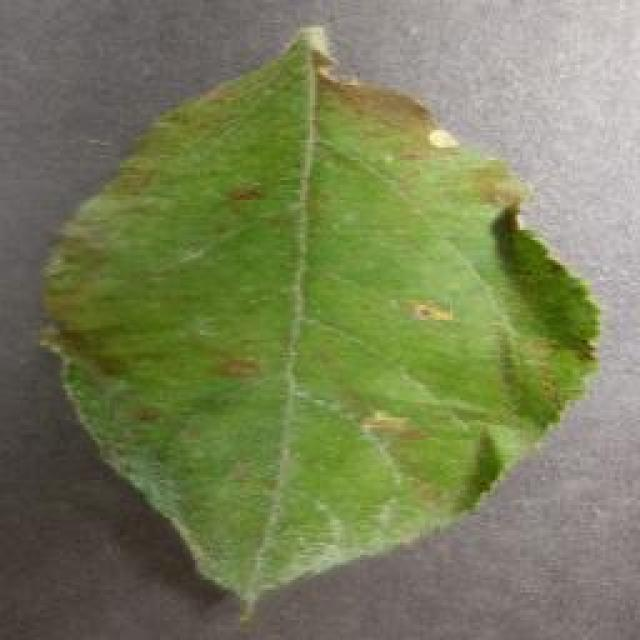apple cedar apple rust: (35, 23, 603, 625)
